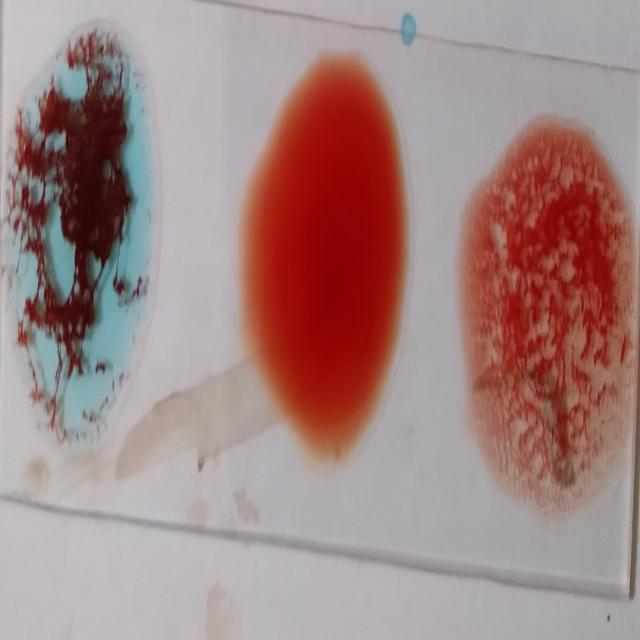A: (0, 30, 155, 437)
D: (471, 110, 634, 500)
